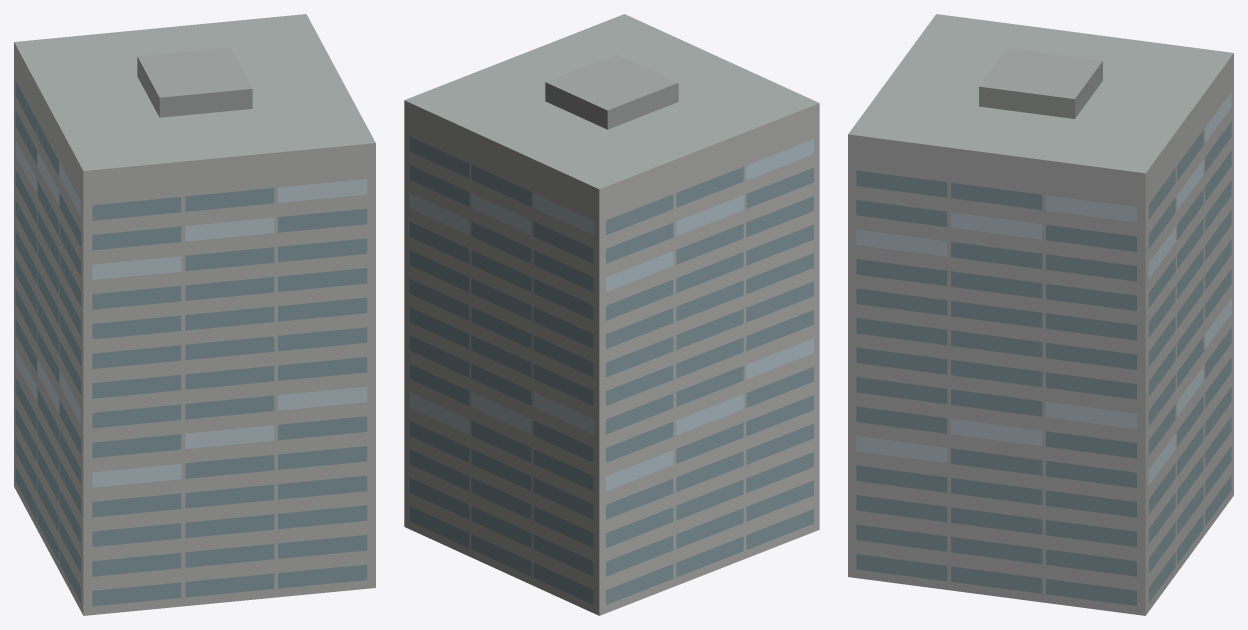
File: fallback-olympic-park-foreon-309.glb
3 renders of one model, left to right at view 1: azimuth 30°, elevation 25°; view 2: azimuth 150°, elevation 25°; view 3: azimuth 270°, elevation 25°, orthographic. The views are drawn at different scales.
Visible parts, largest first — view 1: fallback-olympic-park-foreon-309; view 2: fallback-olympic-park-foreon-309; view 3: fallback-olympic-park-foreon-309.
Part boxes in pixels (x1,y1,x2,y2): fallback-olympic-park-foreon-309: (14,14,375,615); fallback-olympic-park-foreon-309: (404,14,819,615); fallback-olympic-park-foreon-309: (848,14,1233,615).
Bounding box in the file's own units: 35.33 × 47.81 × 36.16.
